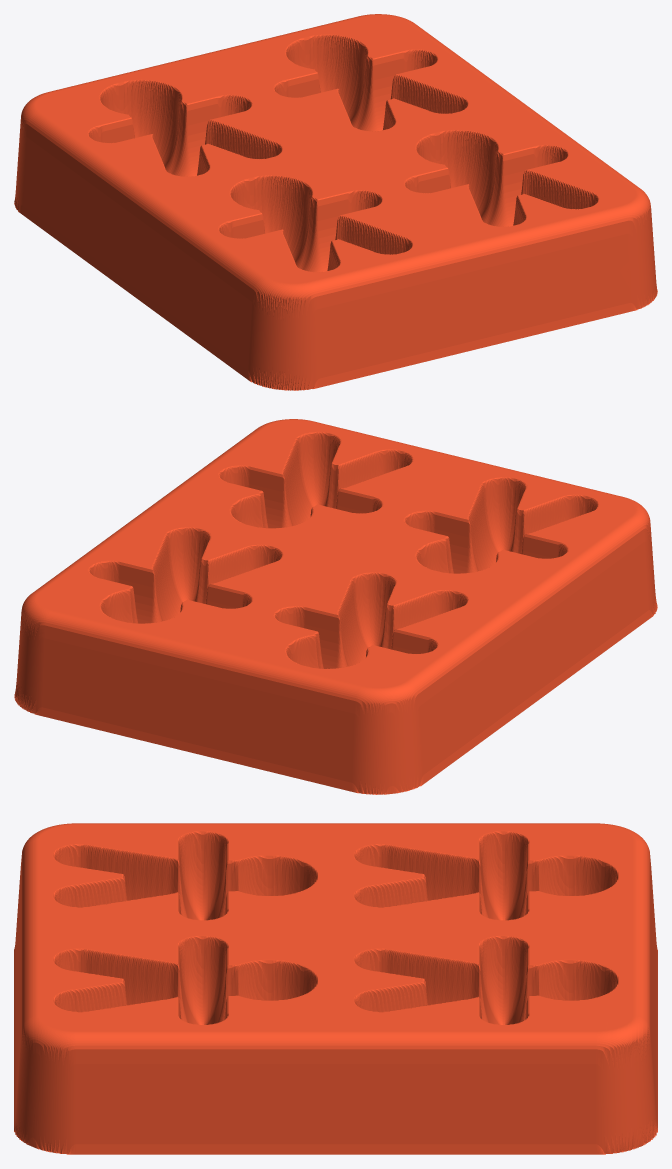
File: mold.glb
3 views of the same model, one above another, from view 1: azimuth 30°, elevation 25°; view 2: azimuth 150°, elevation 25°; view 3: azimuth 270°, elevation 25° (orthographic). The views are drawn at different scales.
Visible parts, largest first — view 1: geometry_0; view 2: geometry_0; view 3: geometry_0.
Part boxes in pixels (box(x1,y1,x2,y2)): geometry_0: box(14, 14, 657, 390); geometry_0: box(14, 419, 657, 794); geometry_0: box(14, 823, 657, 1154).
Bounding box in the file's own units: 0.0786 × 0.0182 × 0.0942.
